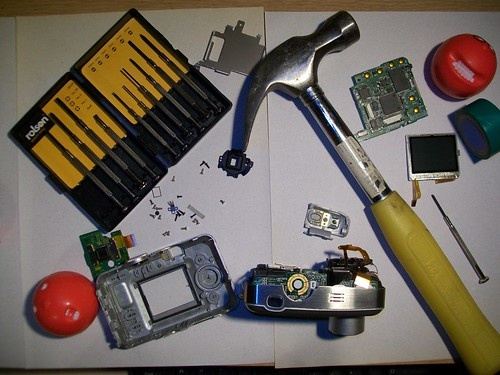hammer: (227, 9, 492, 374)
